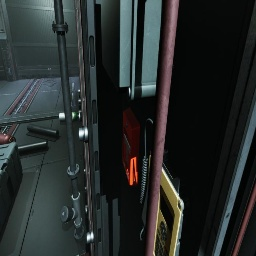0: (59, 112, 79, 121)
EmergencyPhone ,: (140, 118, 190, 256)
FireAlarm ,: (122, 107, 140, 186)
NitrogenTank ,: (0, 133, 16, 145)
